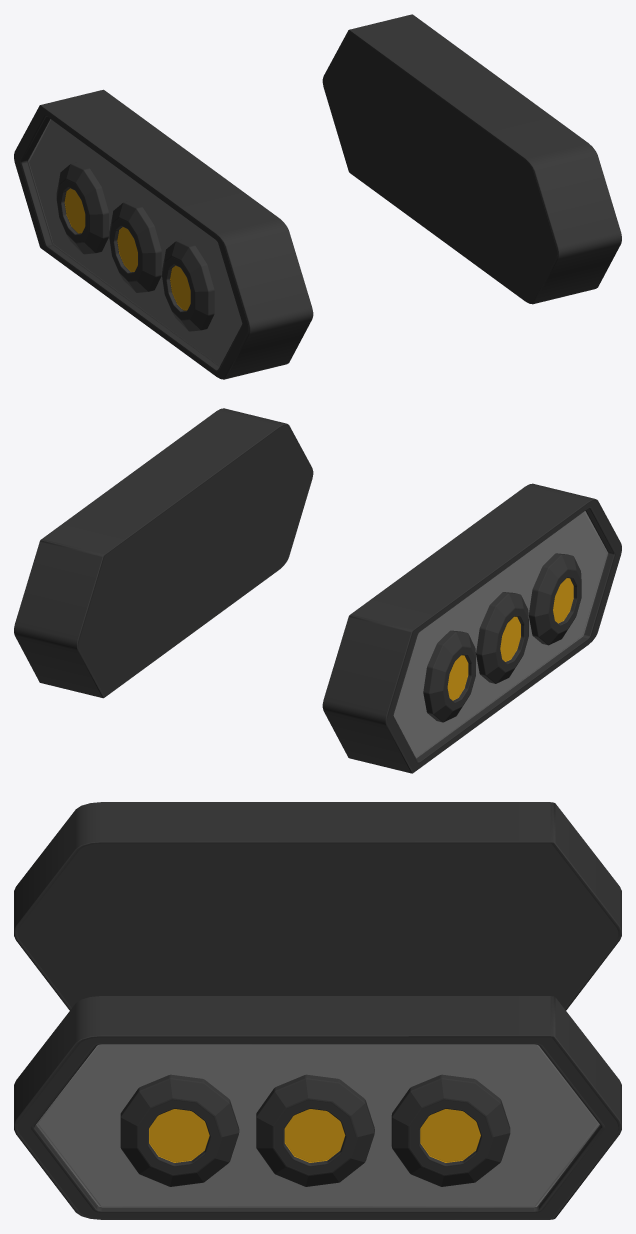
File: Wheel Excavator.fbx
The picture shows the model from 3 angles, top to bottom: view 1: azimuth 30°, elevation 25°; view 2: azimuth 150°, elevation 25°; view 3: azimuth 270°, elevation 25°; orthographic projection. The views are drawn at different scales.
Visible parts, largest first — view 1: Cylinder.008; view 2: Cylinder.008; view 3: Cylinder.008.
Part boxes in pixels (x1=…): Cylinder.008: x1=14, y1=14, x2=621, y2=379; Cylinder.008: x1=14, y1=408, x2=621, y2=773; Cylinder.008: x1=14, y1=802, x2=621, y2=1219.
Bounding box in the file's own units: 441 × 156 × 466.
